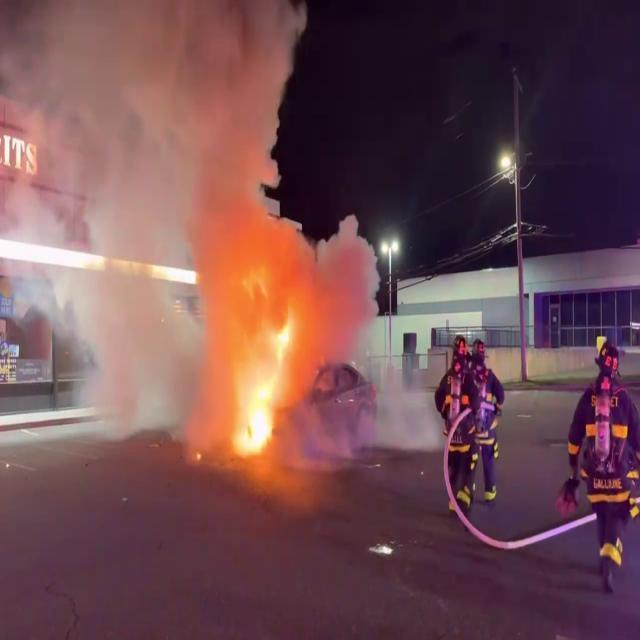Fire: (223, 268, 303, 458)
Smoke: (0, 0, 312, 401)
